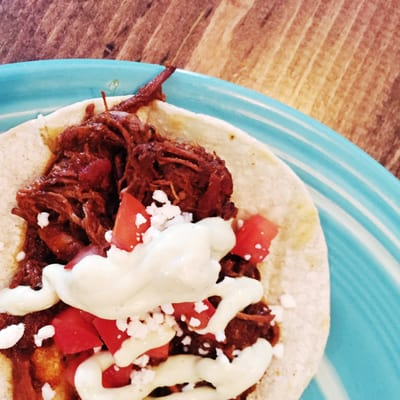curry: (0, 0, 399, 390)
sushi: (4, 92, 320, 399)
